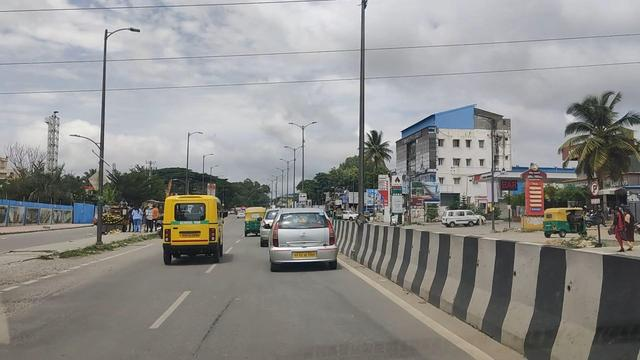LMV: (158, 194, 229, 266), (265, 207, 342, 273)
